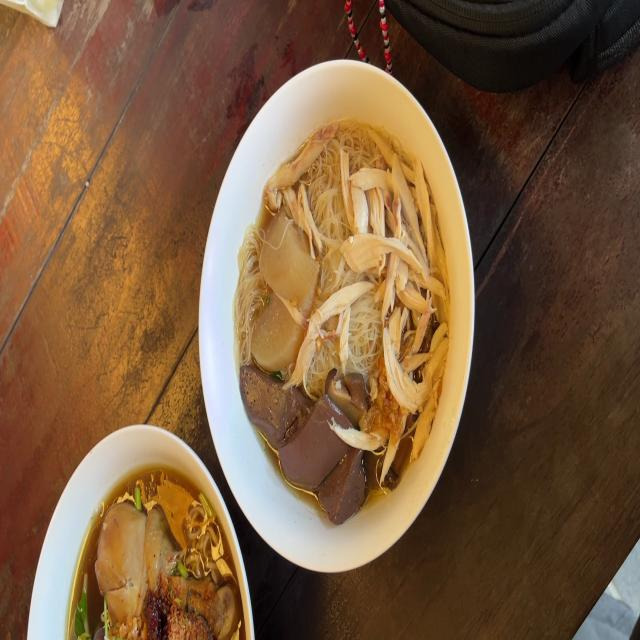noodle: (242, 368, 362, 507)
